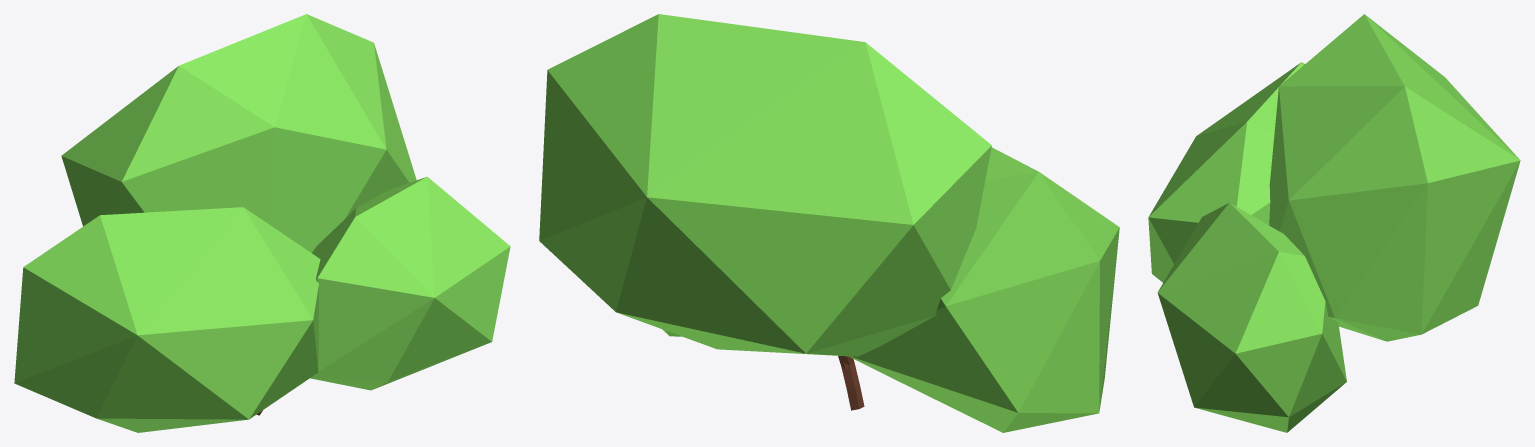
The model's file is Struik_02.fbx.
3 renders of one model, left to right at view 1: azimuth 30°, elevation 25°; view 2: azimuth 150°, elevation 25°; view 3: azimuth 270°, elevation 25°, orthographic. The views are drawn at different scales.
Parts seen in each view (by area): view 1: Struik_02; view 2: Struik_02; view 3: Struik_02.
Boxes of the visible parts, bbox=[...] form: Struik_02: bbox=[14, 14, 510, 432]; Struik_02: bbox=[539, 14, 1119, 432]; Struik_02: bbox=[1148, 14, 1520, 432].
Bounding box in the file's own units: 24.37 × 17.51 × 17.21.
